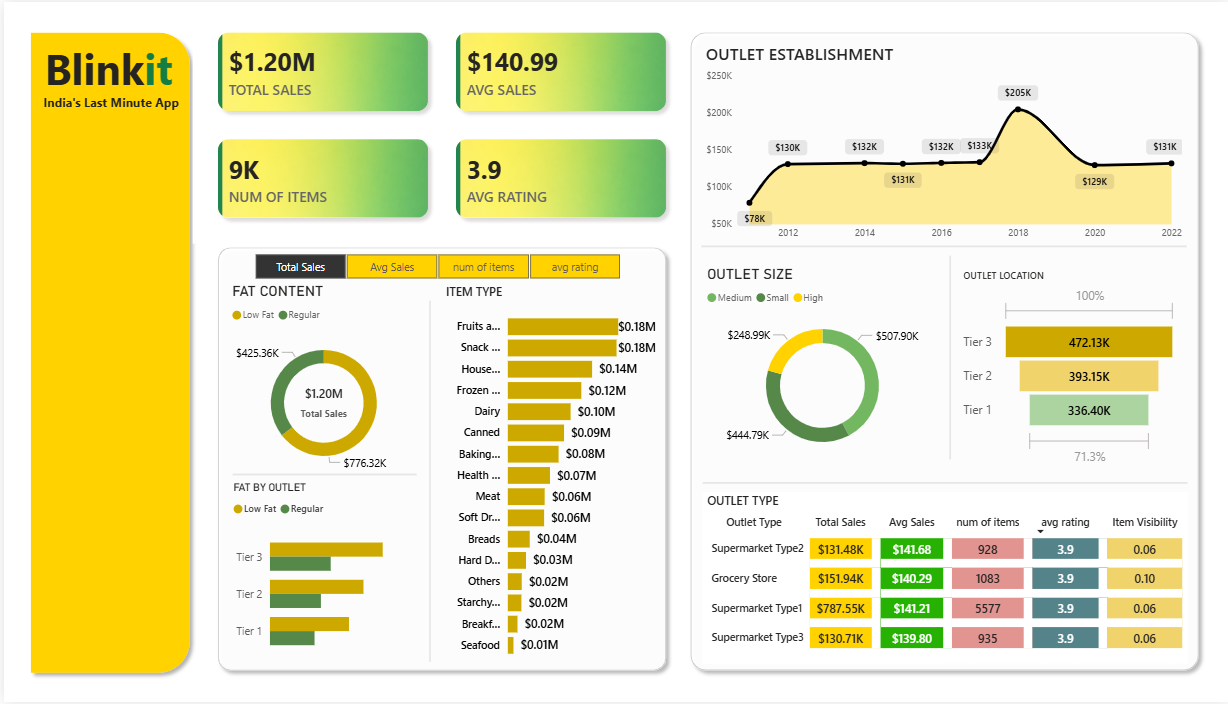

Layout of this report page (visuals, bound fields, positions):
{"tool":"powerbi","page":{"name":"Page 1","canvas":[1400,800],"ordinal":0},"visuals":[{"type":"shape","box":[21.7,25,200,750],"z":0},{"type":"textbox","box":[41.7,38.3,160,76.7],"z":1000},{"type":"textbox","box":[40,100,175.5,30],"z":2000},{"type":"cardVisual","fields":{"Data":["BlinkIT Grocery Data.Total Sales","BlinkIT Grocery Data.Avg Sales","BlinkIT Grocery Data.num of items","BlinkIT Grocery Data.avg rating"]},"box":[215.3,5.3,570,270],"z":3000},{"type":"shape","box":[235,271.7,530,501.7],"z":4000},{"type":"donutChart","title":"FAT CONTENT","fields":{"Y":["BlinkIT Grocery Data.Total Sales"],"Category":["BlinkIT Grocery Data.Item Fat Content"]},"box":[256.4,320,220,230],"z":5000},{"type":"slicer","fields":{"Values":["Metrics.Metrics"]},"box":[261.7,281.7,466.7,41.7],"z":6000},{"type":"card","fields":{"Values":["BlinkIT Grocery Data.Total Sales"]},"box":[328,424,74,66],"z":7000},{"type":"clusteredBarChart","title":"FAT BY OUTLET","fields":{"Y":["BlinkIT Grocery Data.Total Sales"],"Category":["BlinkIT Grocery Data.Outlet Location Type"],"Series":["BlinkIT Grocery Data.Item Fat Content"]},"box":[260,550,220,211.4],"z":8000},{"type":"shape","box":[261.4,530,210,20],"z":9000},{"type":"shape","box":[480.6,341.9,13.8,412.5],"z":10000},{"type":"barChart","title":"ITEM TYPE","fields":{"Y":["BlinkIT Grocery Data.Total Sales"],"Category":["BlinkIT Grocery Data.Item Type"]},"box":[500,321.4,250,438.6],"z":11000},{"type":"shape","box":[775.7,25.7,598.6,747.1],"z":12000},{"type":"lineChart","title":"OUTLET ESTABLISHMENT","fields":{"Y":["BlinkIT Grocery Data.Total Sales"],"Category":["BlinkIT Grocery Data.Outlet Establishment Year"]},"box":[797.1,45.7,554.3,235.7],"z":13000},{"type":"shape","box":[797.1,268.6,554.3,21.4],"z":14000},{"type":"donutChart","title":"OUTLET SIZE","fields":{"Y":["BlinkIT Grocery Data.Total Sales"],"Category":["BlinkIT Grocery Data.Outlet Size"]},"box":[798,300,274,230],"z":15000},{"type":"funnel","title":"OUTLET LOCATION","fields":{"Y":["Sum(BlinkIT Grocery Data.Sales)"],"Category":["BlinkIT Grocery Data.Outlet Location Type"]},"box":[1092.9,292.9,254.3,230],"z":16000},{"type":"shape","box":[1070,290,22.7,232.7],"z":17000},{"type":"pivotTable","title":"OUTLET TYPE","fields":{"Rows":["BlinkIT Grocery Data.Outlet Type"],"Values":["BlinkIT Grocery Data.Total Sales","BlinkIT Grocery Data.Avg Sales","BlinkIT Grocery Data.num of items","BlinkIT Grocery Data.avg rating","Avg(BlinkIT Grocery Data.Item Visibility)"]},"box":[798,560,554,196],"z":18000},{"type":"shape","box":[800,538.6,552.9,21.4],"z":19000},{"type":"slicer","fields":{"Values":["BlinkIT Grocery Data.Outlet Location Type"]},"box":[40,247.1,161.4,68.6],"z":20000},{"type":"slicer","fields":{"Values":["BlinkIT Grocery Data.Outlet Size"]},"box":[40,331.4,161.4,68.6],"z":21000},{"type":"slicer","fields":{"Values":["BlinkIT Grocery Data.Item Type"]},"box":[40,421.4,161.4,68.6],"z":22000},{"type":"textbox","box":[65.7,208.6,110,40],"z":23000}]}

Visuals, with their boxes in screenshot pixels (x1, y1, x2, y2), scaled from the page's 1400x800 canvas onto the 1228x704 screenshot:
shape: detection(19, 22, 194, 682)
textbox: detection(37, 34, 177, 101)
textbox: detection(35, 88, 189, 114)
cardVisual - BlinkIT Grocery Data.Total Sales x BlinkIT Grocery Data.Avg Sales: detection(189, 5, 689, 242)
shape: detection(206, 239, 671, 681)
"FAT CONTENT" donutChart: detection(225, 282, 418, 484)
slicer - Metrics.Metrics: detection(230, 248, 639, 285)
card - BlinkIT Grocery Data.Total Sales: detection(288, 373, 353, 431)
"FAT BY OUTLET" clusteredBarChart: detection(228, 484, 421, 670)
shape: detection(229, 466, 413, 484)
shape: detection(422, 301, 434, 664)
"ITEM TYPE" barChart: detection(439, 283, 658, 669)
shape: detection(680, 23, 1205, 680)
"OUTLET ESTABLISHMENT" lineChart: detection(699, 40, 1185, 248)
shape: detection(699, 236, 1185, 255)
"OUTLET SIZE" donutChart: detection(700, 264, 940, 466)
"OUTLET LOCATION" funnel: detection(959, 258, 1182, 460)
shape: detection(939, 255, 958, 460)
"OUTLET TYPE" pivotTable: detection(700, 493, 1186, 665)
shape: detection(702, 474, 1187, 493)
slicer - BlinkIT Grocery Data.Outlet Location Type: detection(35, 217, 177, 278)
slicer - BlinkIT Grocery Data.Outlet Size: detection(35, 292, 177, 352)
slicer - BlinkIT Grocery Data.Item Type: detection(35, 371, 177, 431)
textbox: detection(58, 184, 154, 219)
